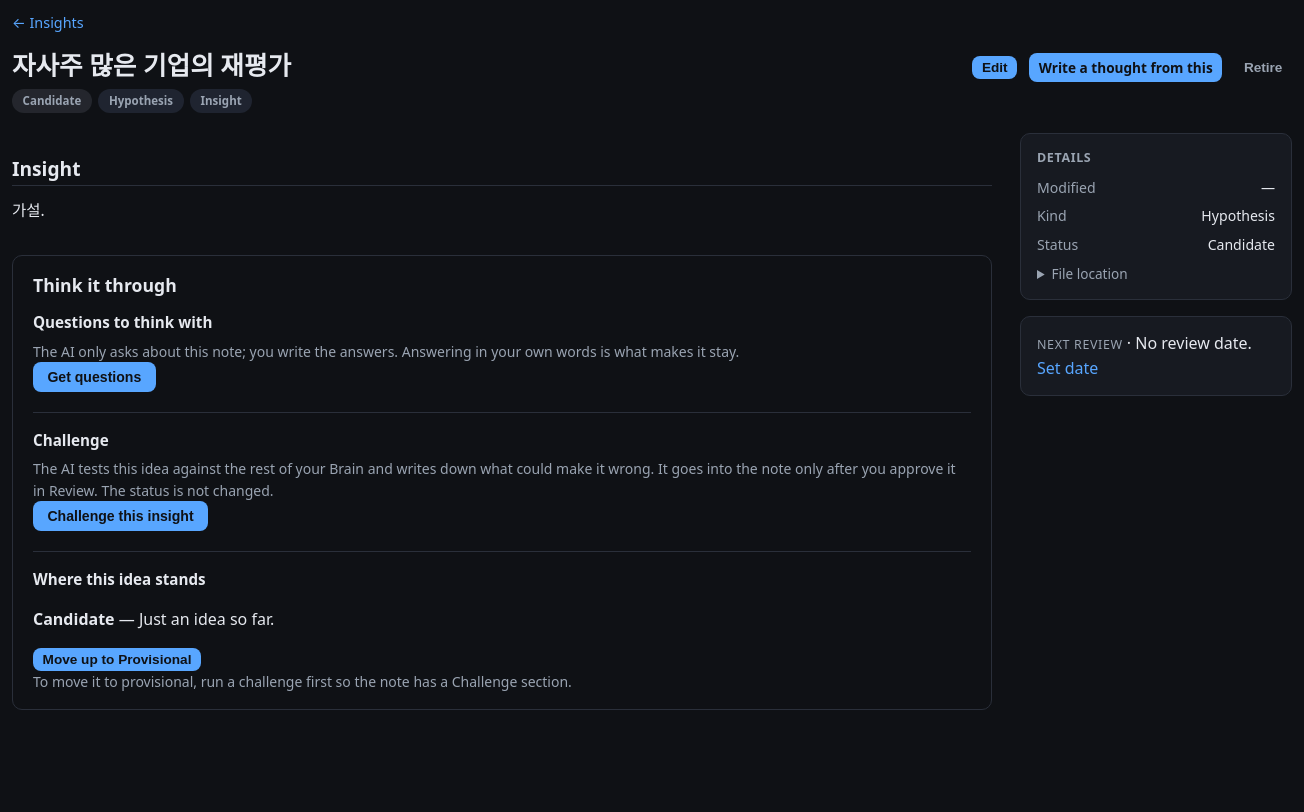
Test: Challenger › creates a review card for an insight
Click the button "Challenge this insight".
click(121, 516)  # box x1=33 y1=501 x2=208 y2=531
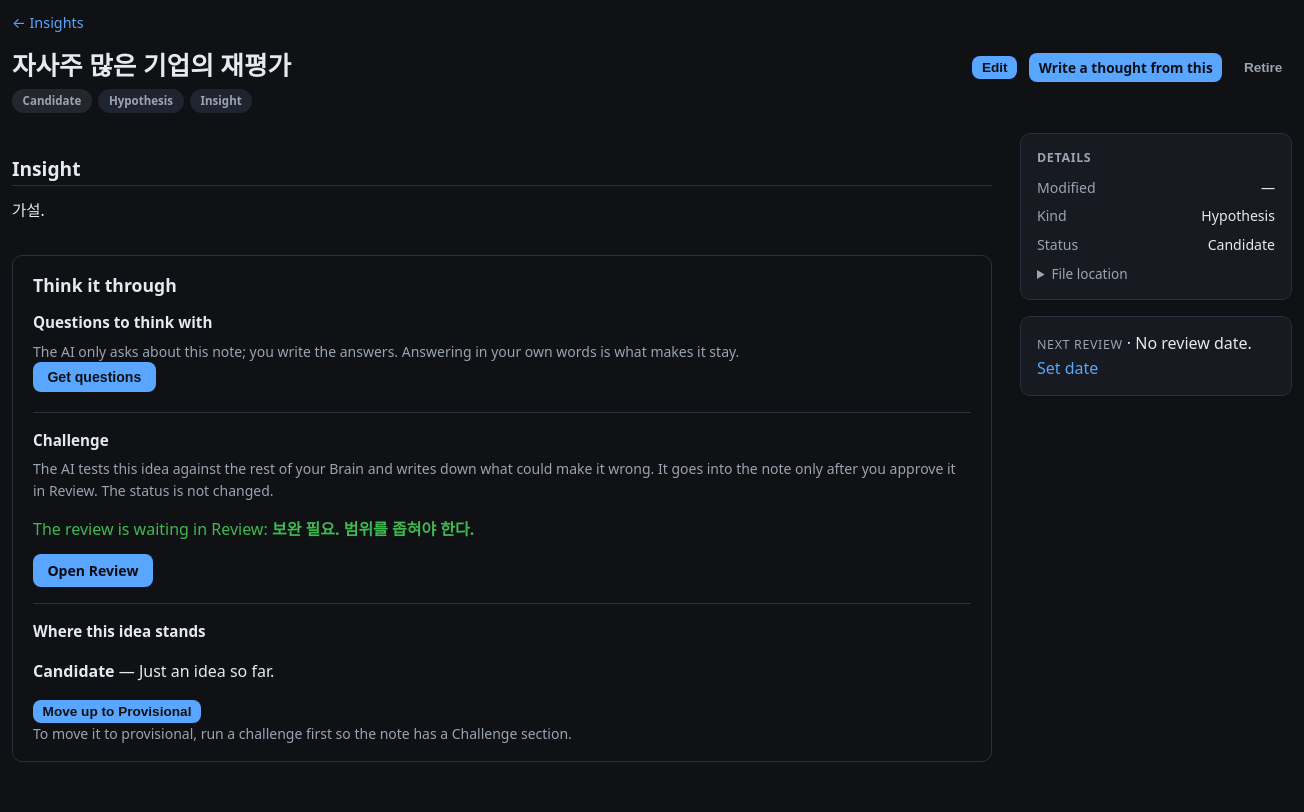
Expected: the text "보완 필요. 범위를 좁혀야 한다." is shown, x1=272 y1=518 x2=474 y2=540
